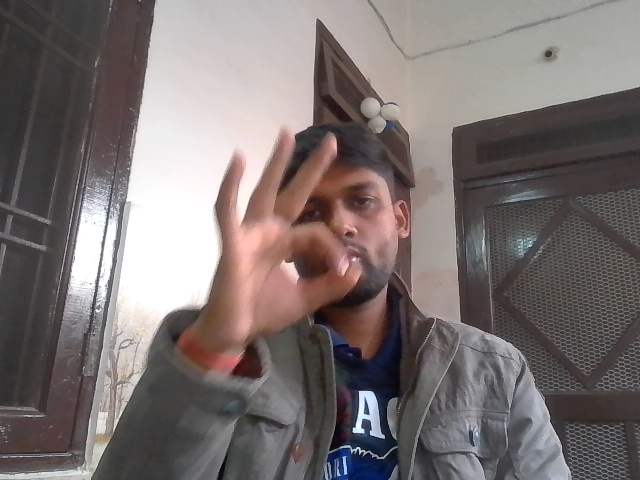Good: (203, 129, 370, 347)
